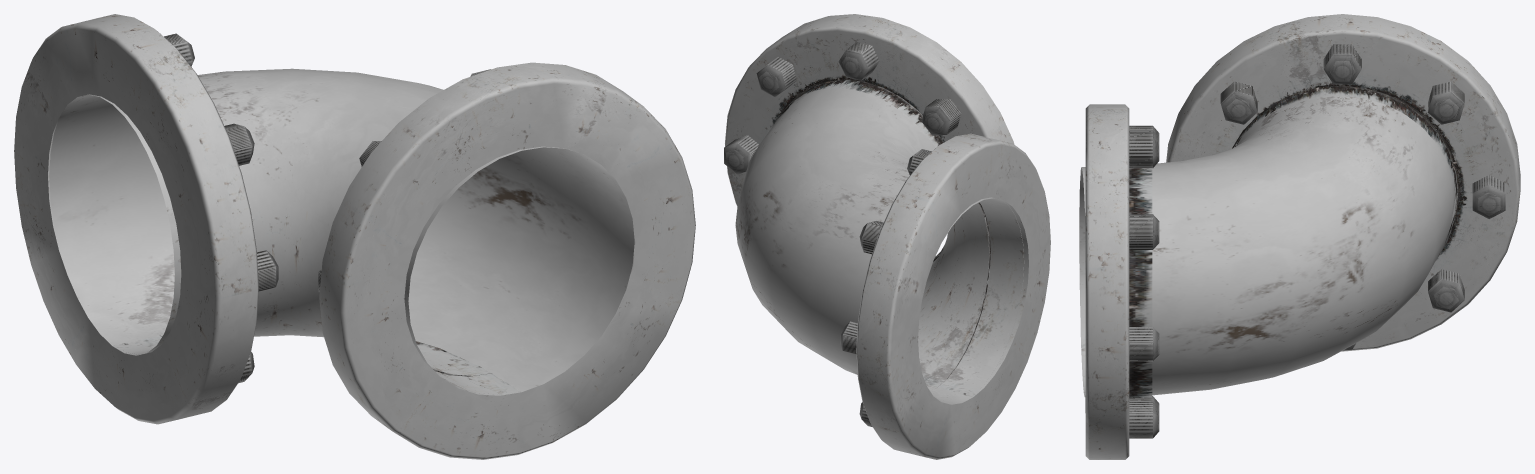
The model's file is Modular_Small_Pipe_Angleshort.fbx.
The picture shows the model from 3 angles, left to right: view 1: azimuth 30°, elevation 25°; view 2: azimuth 150°, elevation 25°; view 3: azimuth 270°, elevation 25°; orthographic projection. The views are drawn at different scales.
Parts seen in each view (by area): view 1: Modular_Small_Pipe_Angleshort_LOD0; view 2: Modular_Small_Pipe_Angleshort_LOD0; view 3: Modular_Small_Pipe_Angleshort_LOD0.
Boxes of the visible parts, bbox=[...] form: Modular_Small_Pipe_Angleshort_LOD0: bbox=[14, 14, 695, 459]; Modular_Small_Pipe_Angleshort_LOD0: bbox=[724, 14, 1050, 459]; Modular_Small_Pipe_Angleshort_LOD0: bbox=[1079, 14, 1520, 459].
Size of what is drawn, in the model's own units: 0.7652 by 0.617 by 0.7652.
